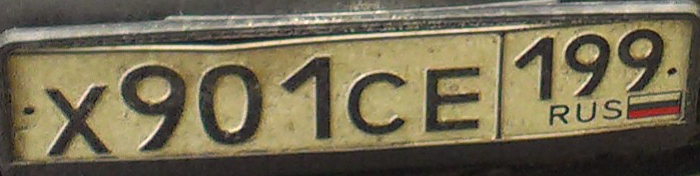character: (115, 60, 190, 158), (190, 61, 268, 149), (274, 54, 341, 145), (39, 79, 116, 156), (345, 61, 414, 140), (417, 62, 488, 138), (561, 28, 615, 102), (613, 27, 667, 95), (512, 34, 558, 107)
